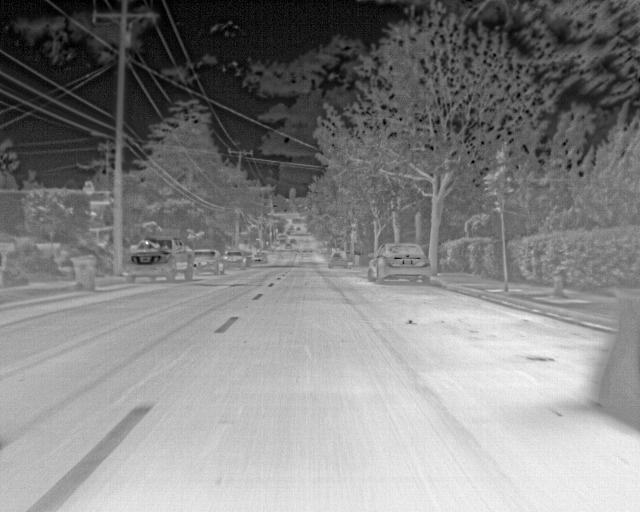car: (126, 233, 193, 285), (366, 241, 429, 287), (192, 246, 223, 274), (219, 250, 248, 271), (328, 251, 347, 268), (249, 251, 267, 265)
